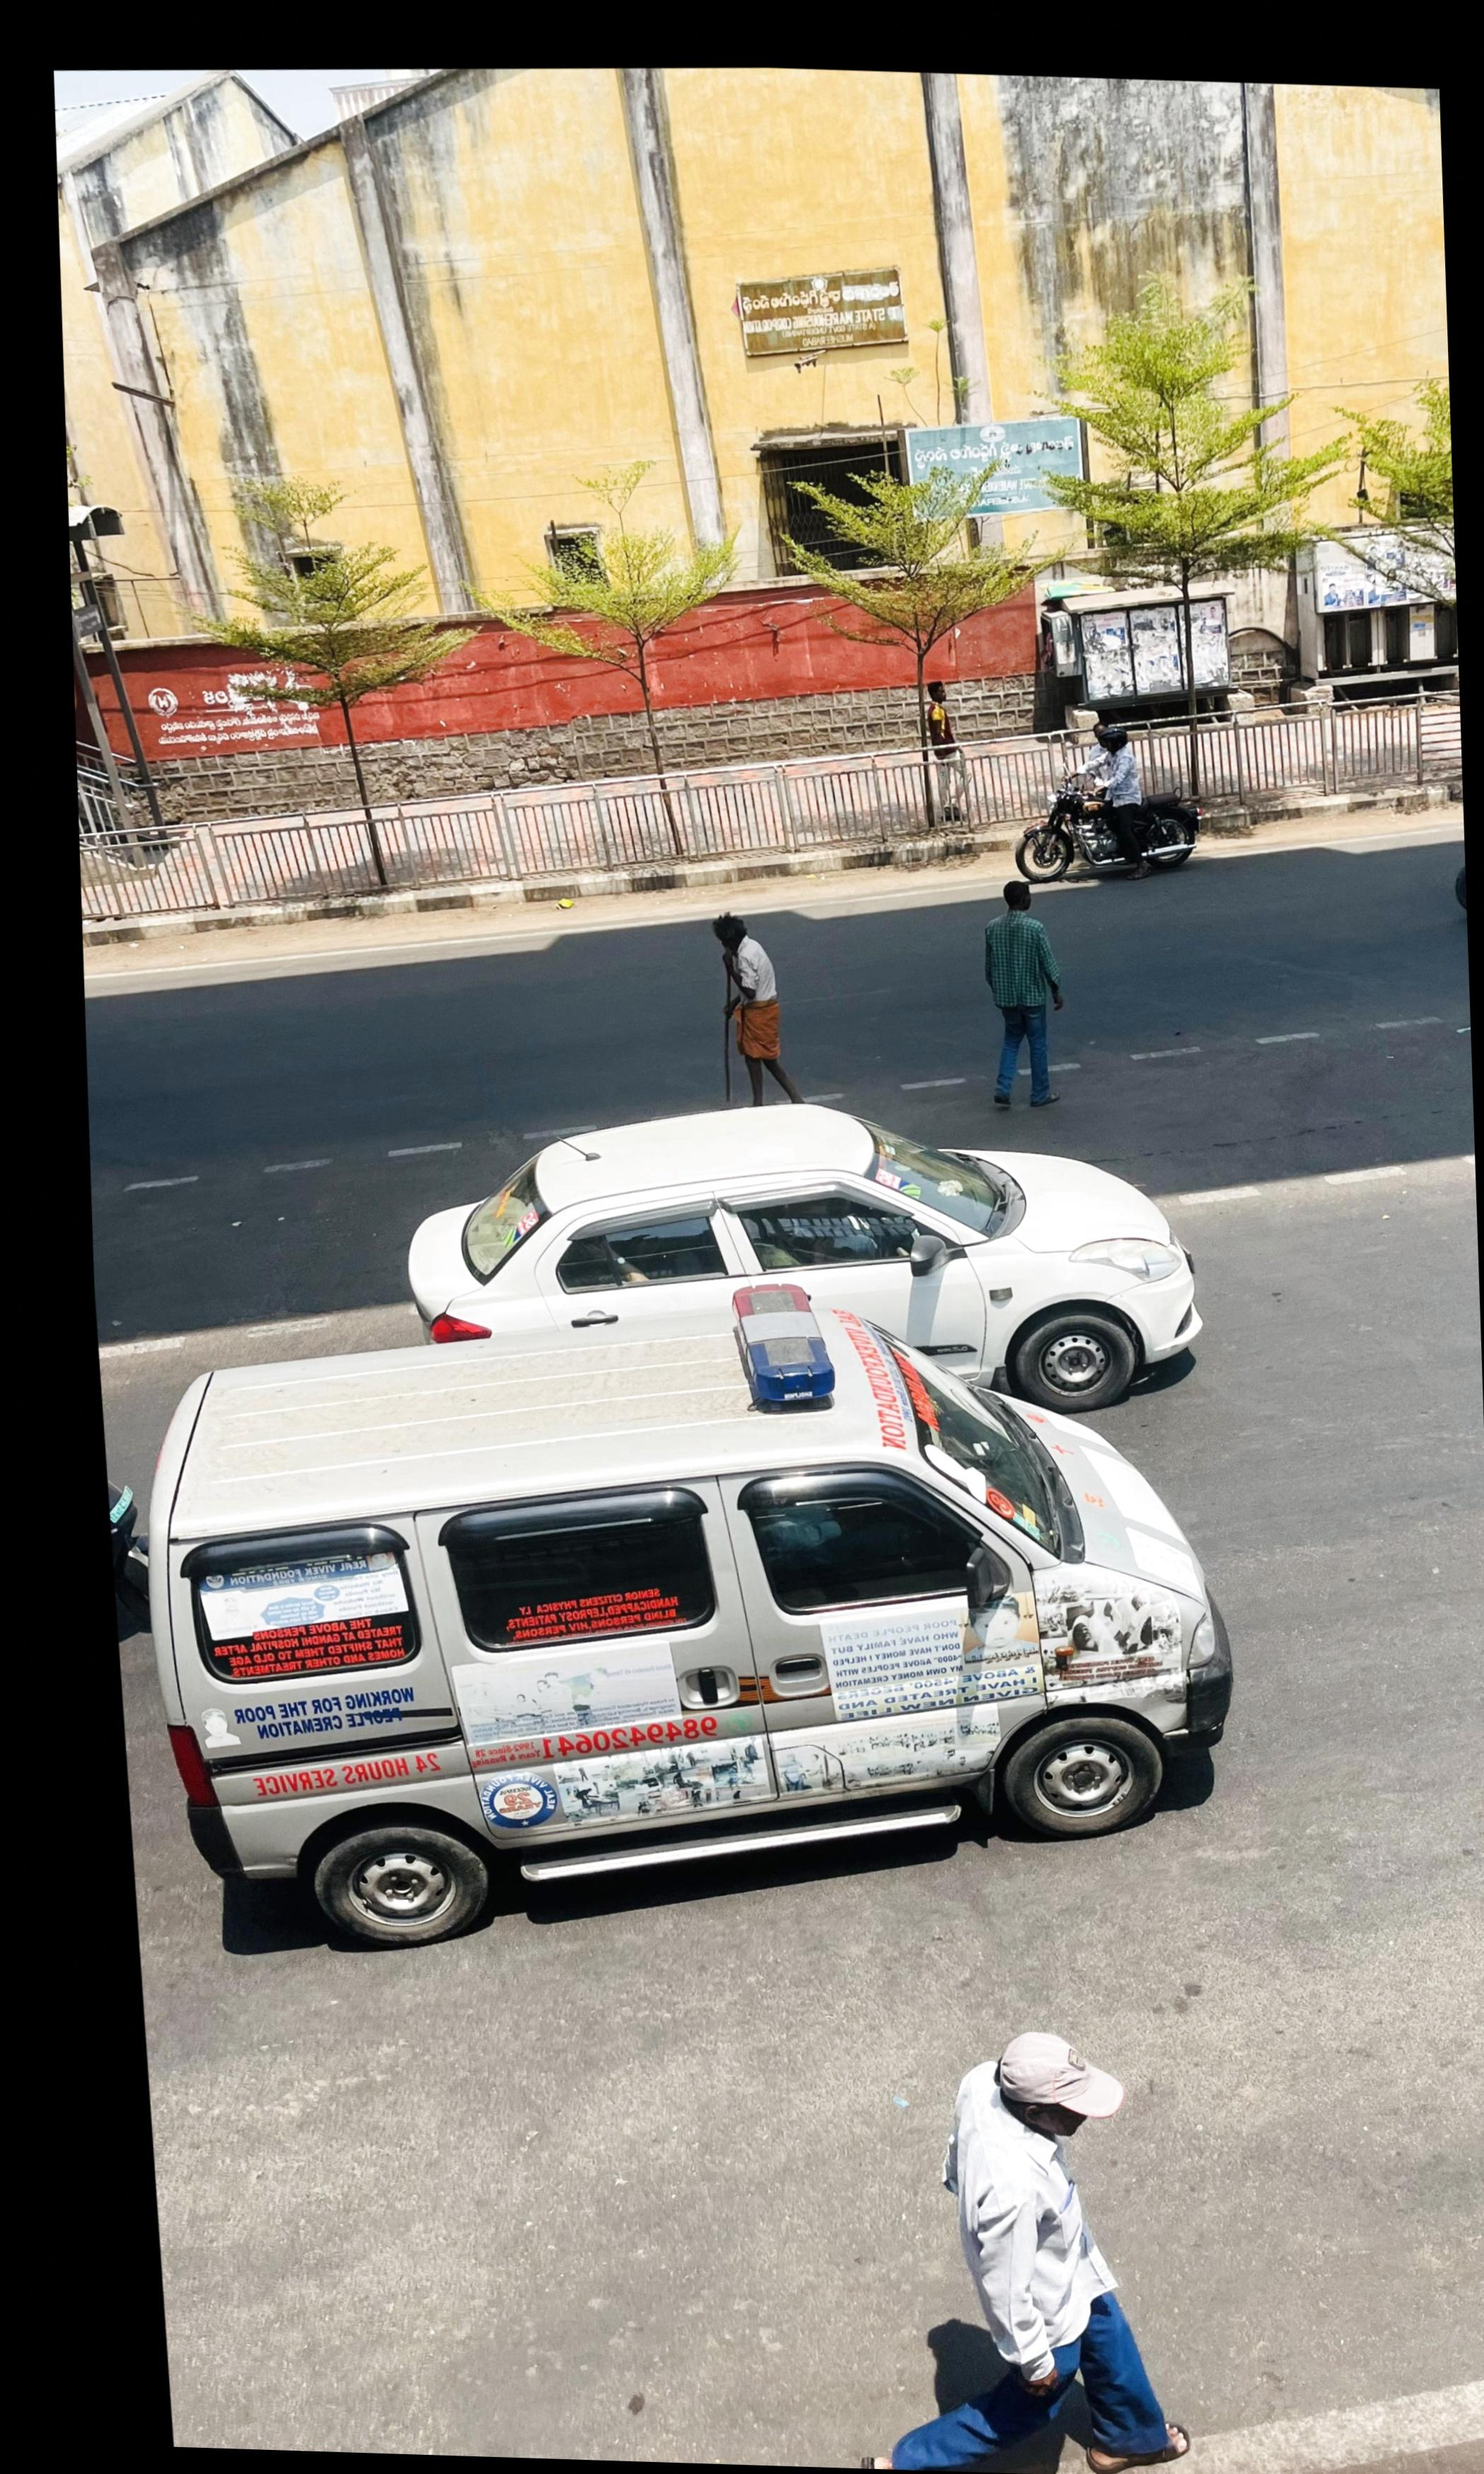ambulance: (141, 1295, 1233, 1958)
